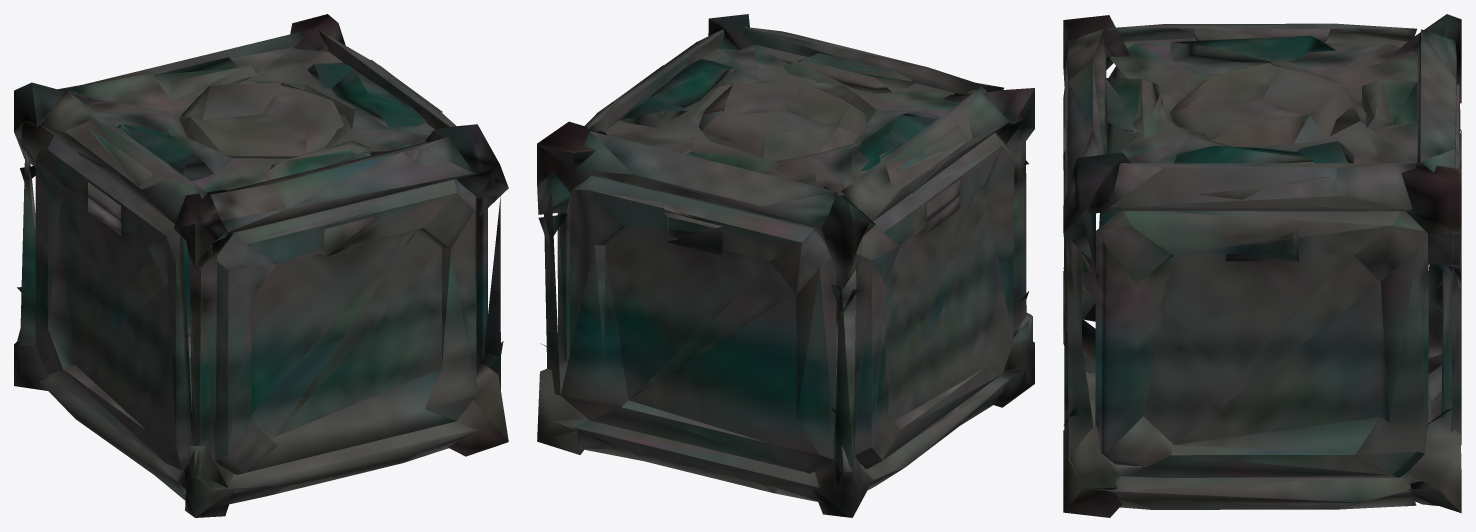
Rendered from crate-large.lod2.glb.
3 views of the same model, side by side, from view 1: azimuth 30°, elevation 25°; view 2: azimuth 150°, elevation 25°; view 3: azimuth 270°, elevation 25° (orthographic). The views are drawn at different scales.
Size of the model in its own units: 1.16 by 1.12 by 1.16.
1 material, 1 textured.
